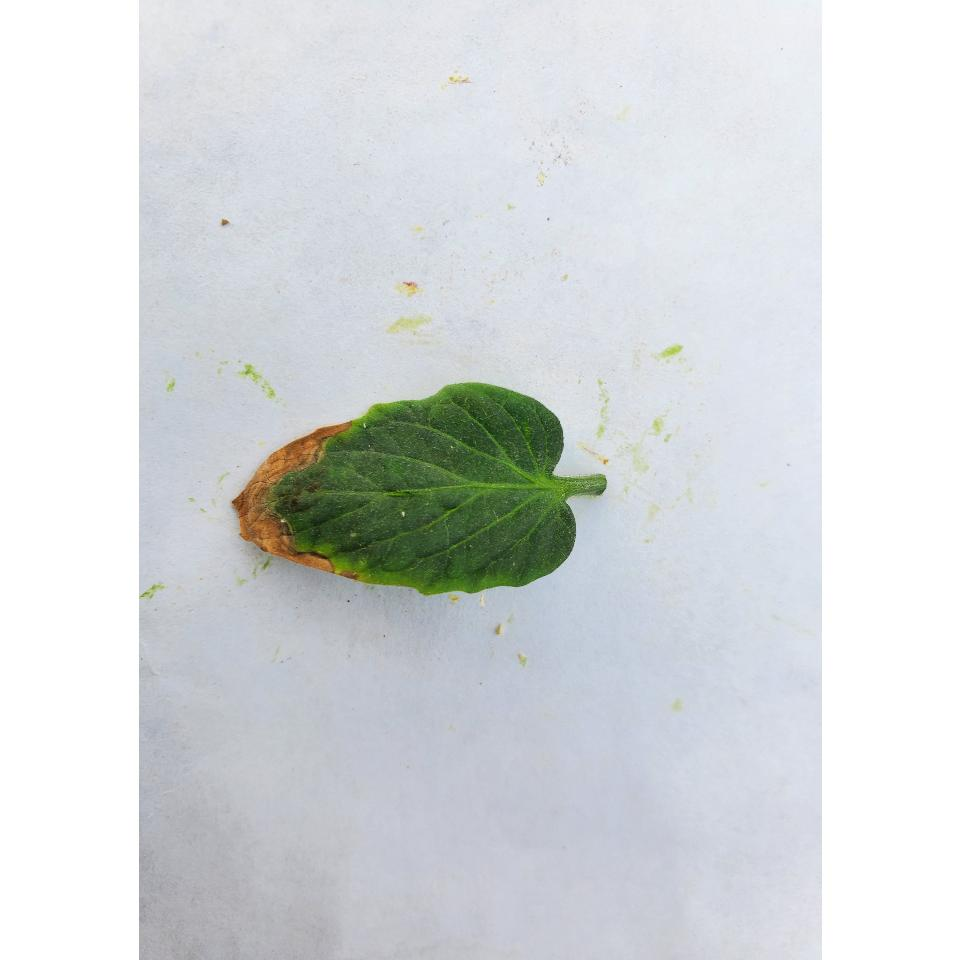tomato_bacterial_blight: (226, 394, 630, 594)
